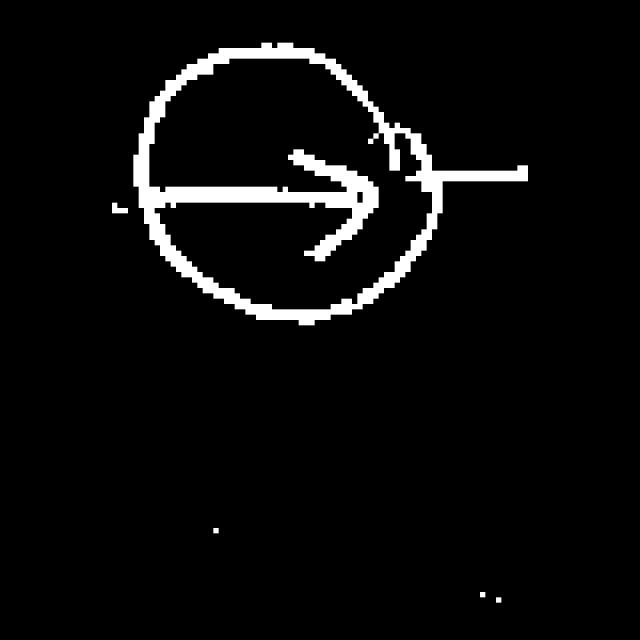current_source: (129, 30, 457, 334)
